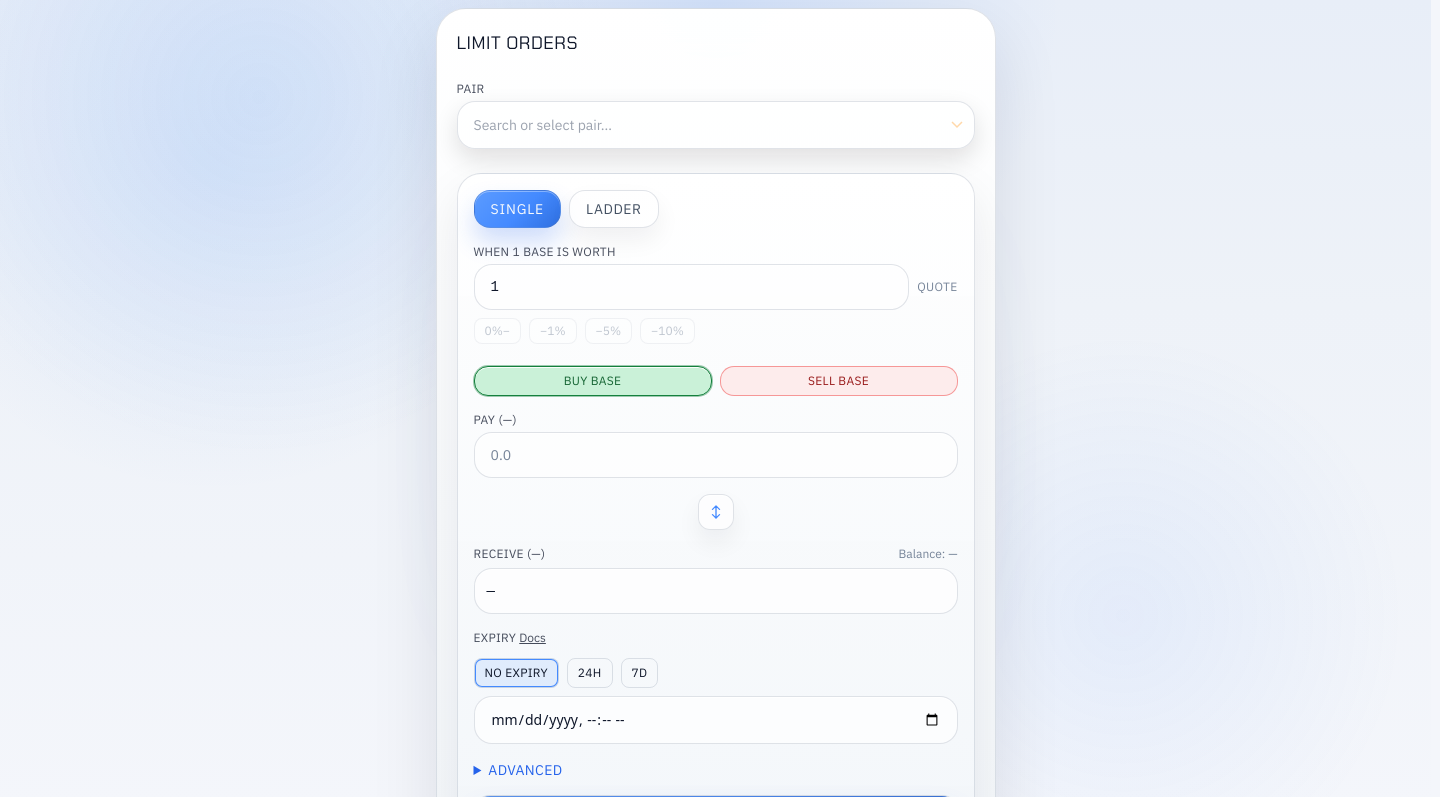
LimitOrdersPage › shows limits market-data outage banner when workspace indexer queries fail (GitLab #218)
This screenshot has width=1440, height=797.
Click the dropdown named "Trading pair" at (716,125), box [456,101,974,149]
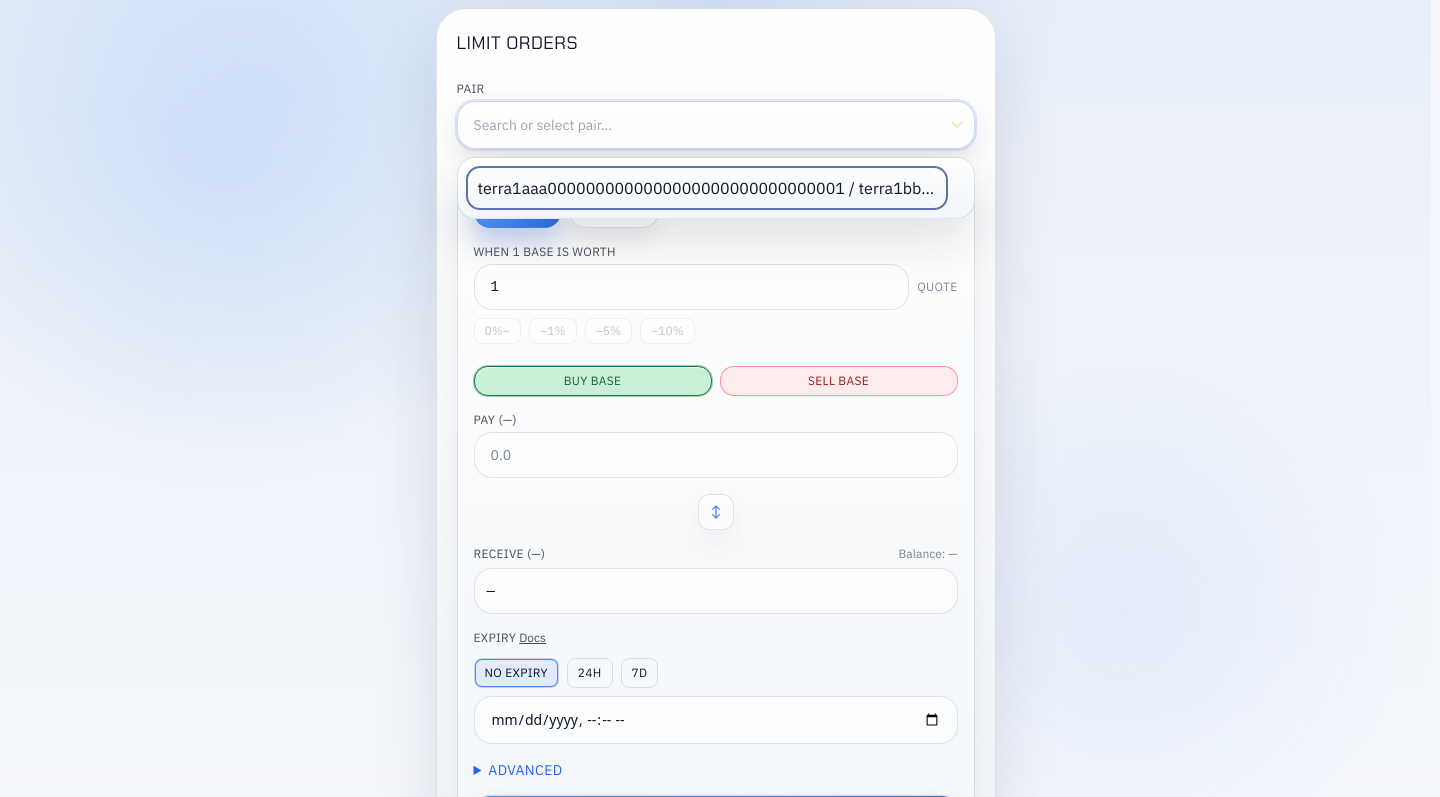
Click the option at (706,188), box [466,166,948,210]
(page scrolled)
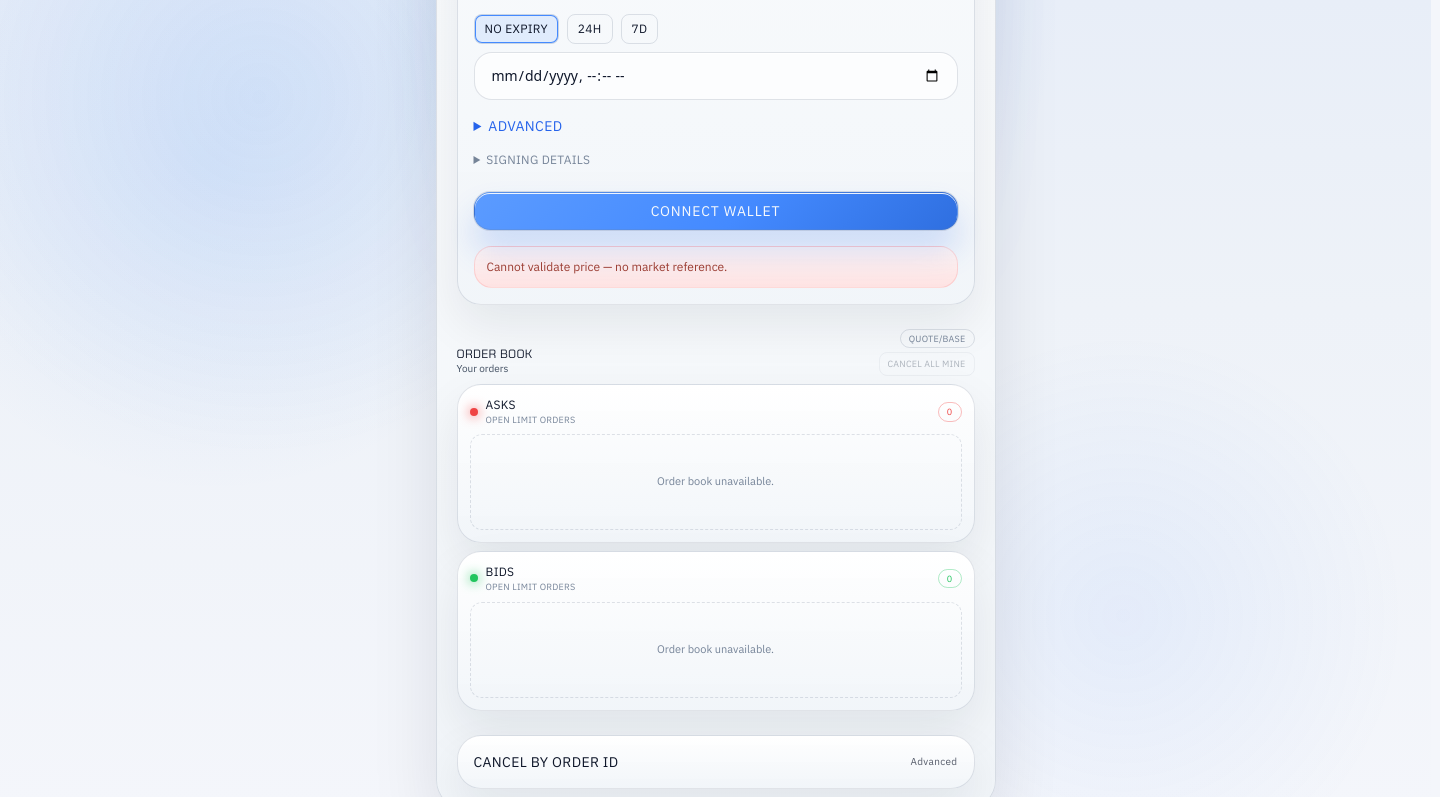
Expected: the message with test id "trade-book-unavailable-bid" is shown, [470,602,962,698]
Expected: the message with test id "trade-book-unavailable-ask" is shown, [470,434,962,530]
